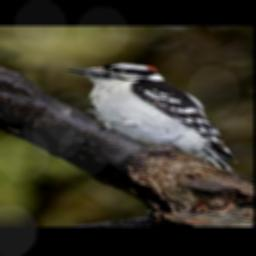Woodpecker: (65, 63, 236, 175)
